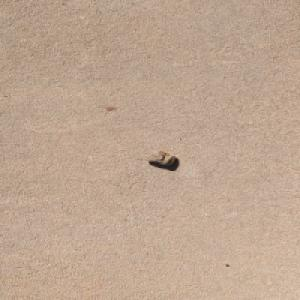Rock: (143, 149, 175, 165)
